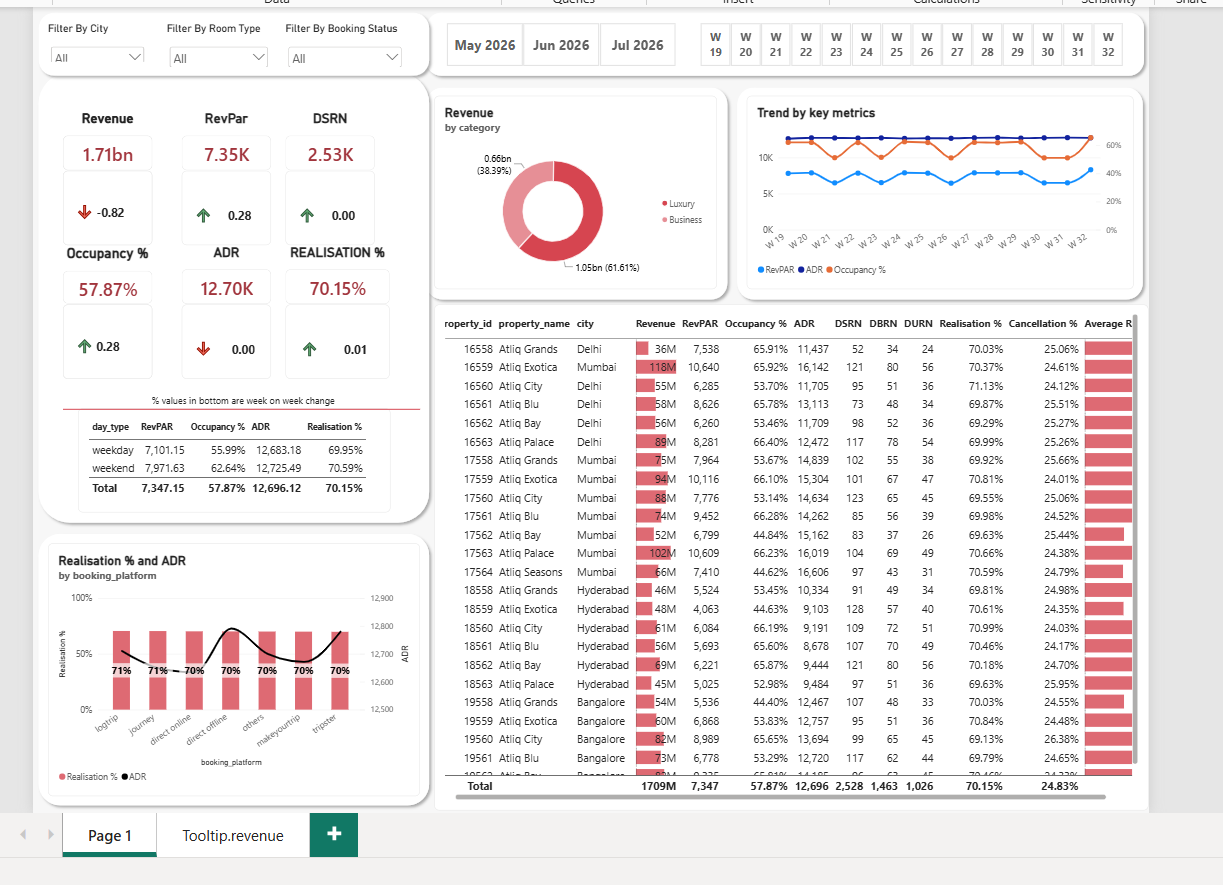

The page's visual inventory and layout, read from the dashboard file:
{"tool":"powerbi","page":{"name":"Page 1","canvas":[1800,1300],"ordinal":0},"visuals":[{"type":"shape","box":[624,120,504,360],"z":0},{"type":"shape","box":[0,840,648,456],"z":1000},{"type":"shape","box":[0,96,648,744],"z":2000},{"type":"shape","box":[624,0,1176,120],"z":3000},{"type":"shape","box":[0,0,648,120],"z":4000},{"type":"tableEx","fields":{"Values":["dim_hotels.property_id","dim_hotels.property_name","dim_hotels.city","key_measures.Revenue","key_measures.RevPAR","key_measures.Occupancy %","key_measures.ADR","key_measures.DSRN","key_measures.DBRN","key_measures.DURN","key_measures.Realisation %","key_measures.Cancellation %"]},"box":[648,480,1152,816],"z":5000},{"type":"slicer","title":"Filter By City","fields":{"Values":["dim_hotels.city"]},"box":[24,24,160,64],"z":6000},{"type":"slicer","title":"Filter By Room Type","fields":{"Values":["dim_rooms.room_class"]},"box":[192,24,168,72],"z":7000},{"type":"slicer","fields":{"Values":["dim_date.mmm yy"]},"box":[648,24,408,72],"z":8000},{"type":"slicer","fields":{"Values":["dim_date.week no"]},"box":[1056,24,720,72],"z":9000},{"type":"donutChart","fields":{"Category":["dim_hotels.category"],"Y":["key_measures.Revenue"]},"box":[648,144,456,312],"z":10000},{"type":"cardVisual","title":"Revenue","fields":{"Data":["key_measures.Revenue"]},"box":[48,168,144,96],"z":11000},{"type":"cardVisual","title":"Revenue","fields":{"Data":["key_measures.Revenue"]},"box":[48,168,144,96],"z":12000},{"type":"slicer","title":"Filter By Booking Status","fields":{"Values":["fact_bookings.booking_status"]},"box":[384,24,216,72],"z":13000},{"type":"cardVisual","title":"Occupancy %","fields":{"Data":["key_measures.Occupancy %"]},"box":[48,384,144,96],"z":14000},{"type":"tableEx","fields":{"Values":["key_measures.Revenue WoW change %"]},"box":[48,264,144,120],"z":15000},{"type":"tableEx","fields":{"Values":["key_measures.Revenue WoW change %"]},"box":[48,264,144,120],"z":16000},{"type":"cardVisual","title":"RevPar","fields":{"Data":["key_measures.RevPAR"]},"box":[240,168,144,96],"z":17000},{"type":"tableEx","fields":{"Values":["key_measures.Occupancy WoW change %"]},"box":[48,480,144,120],"z":18000},{"type":"tableEx","fields":{"Values":["key_measures.Occupancy WoW change %"]},"box":[48,480,144,120],"z":19000},{"type":"tableEx","fields":{"Values":["key_measures.Revpar WoW change %"]},"box":[240,264,144,120],"z":20000},{"type":"cardVisual","title":"DSRN","fields":{"Data":["key_measures.DSRN"]},"box":[408,168,144,96],"z":21000},{"type":"tableEx","fields":{"Values":["key_measures.DSRN WoW change %"]},"box":[408,264,144,120],"z":22000},{"type":"cardVisual","title":"ADR","fields":{"Data":["key_measures.ADR"]},"box":[240,384,144,96],"z":23000},{"type":"tableEx","fields":{"Values":["key_measures.ADR WoW change %"]},"box":[240,480,144,120],"z":24000},{"type":"cardVisual","title":"REALISATION %","fields":{"Data":["key_measures.Realisation %"]},"box":[408,384,168,96],"z":25000},{"type":"tableEx","fields":{"Values":["key_measures.Realisation WoW change %"]},"box":[408,480,168,120],"z":26000},{"type":"tableEx","fields":{"Values":["dim_date.day_type","key_measures.RevPAR","key_measures.Occupancy %","key_measures.ADR","key_measures.Realisation %"]},"box":[72,648,504,168],"z":27000},{"type":"shape","box":[48,624,576,48],"z":28000},{"type":"textbox","box":[192,624,312,24],"z":29000},{"type":"lineClusteredColumnComboChart","fields":{"Category":["fact_bookings.booking_platform"],"Y":["key_measures.Realisation %"],"Y2":["key_measures.ADR"]},"box":[24,864,600,408],"z":30000},{"type":"shape","box":[1128,120,672,360],"z":30001},{"type":"lineChart","title":"Trend by key metrics","fields":{"Category":["dim_date.week no"],"Y":["key_measures.RevPAR","key_measures.ADR"],"Y2":["key_measures.Occupancy %"]},"box":[1152,144,624,312],"z":30002}]}

Visuals, with their boxes on the page's 1800x1300 design canvas (x1, y1, x2, y2). These are canvas units, not pixel positions in the 1223x885 screenshot, which may show the page scaled, cropped or inside an application window:
shape: 624/120/1128/480
shape: 0/840/648/1296
shape: 0/96/648/840
shape: 624/0/1800/120
shape: 0/0/648/120
tableEx - dim_hotels.property_id x dim_hotels.property_name: 648/480/1800/1296
"Filter By City" slicer: 24/24/184/88
"Filter By Room Type" slicer: 192/24/360/96
slicer - dim_date.mmm yy: 648/24/1056/96
slicer - dim_date.week no: 1056/24/1776/96
donutChart - dim_hotels.category x key_measures.Revenue: 648/144/1104/456
"Revenue" cardVisual: 48/168/192/264
"Revenue" cardVisual: 48/168/192/264
"Filter By Booking Status" slicer: 384/24/600/96
"Occupancy %" cardVisual: 48/384/192/480
tableEx - key_measures.Revenue WoW change %: 48/264/192/384
tableEx - key_measures.Revenue WoW change %: 48/264/192/384
"RevPar" cardVisual: 240/168/384/264
tableEx - key_measures.Occupancy WoW change %: 48/480/192/600
tableEx - key_measures.Occupancy WoW change %: 48/480/192/600
tableEx - key_measures.Revpar WoW change %: 240/264/384/384
"DSRN" cardVisual: 408/168/552/264
tableEx - key_measures.DSRN WoW change %: 408/264/552/384
"ADR" cardVisual: 240/384/384/480
tableEx - key_measures.ADR WoW change %: 240/480/384/600
"REALISATION %" cardVisual: 408/384/576/480
tableEx - key_measures.Realisation WoW change %: 408/480/576/600
tableEx - dim_date.day_type x key_measures.RevPAR: 72/648/576/816
shape: 48/624/624/672
textbox: 192/624/504/648
lineClusteredColumnComboChart - fact_bookings.booking_platform x key_measures.Realisation %: 24/864/624/1272
shape: 1128/120/1800/480
"Trend by key metrics" lineChart: 1152/144/1776/456
